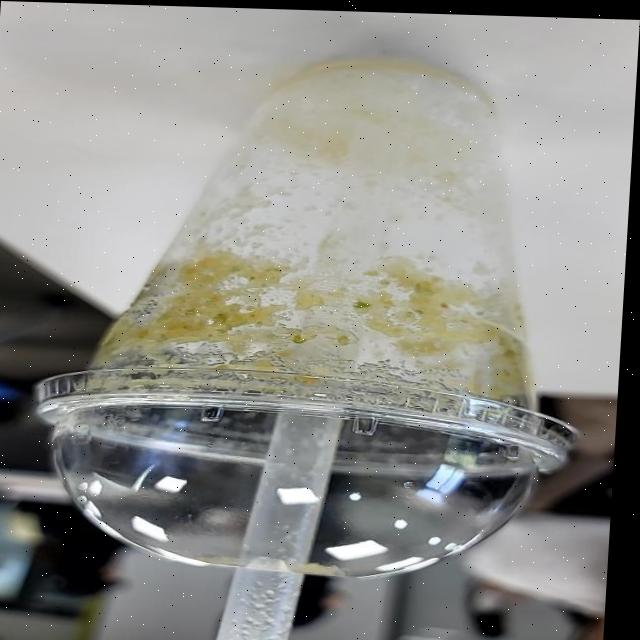cup: (18, 15, 602, 603)
